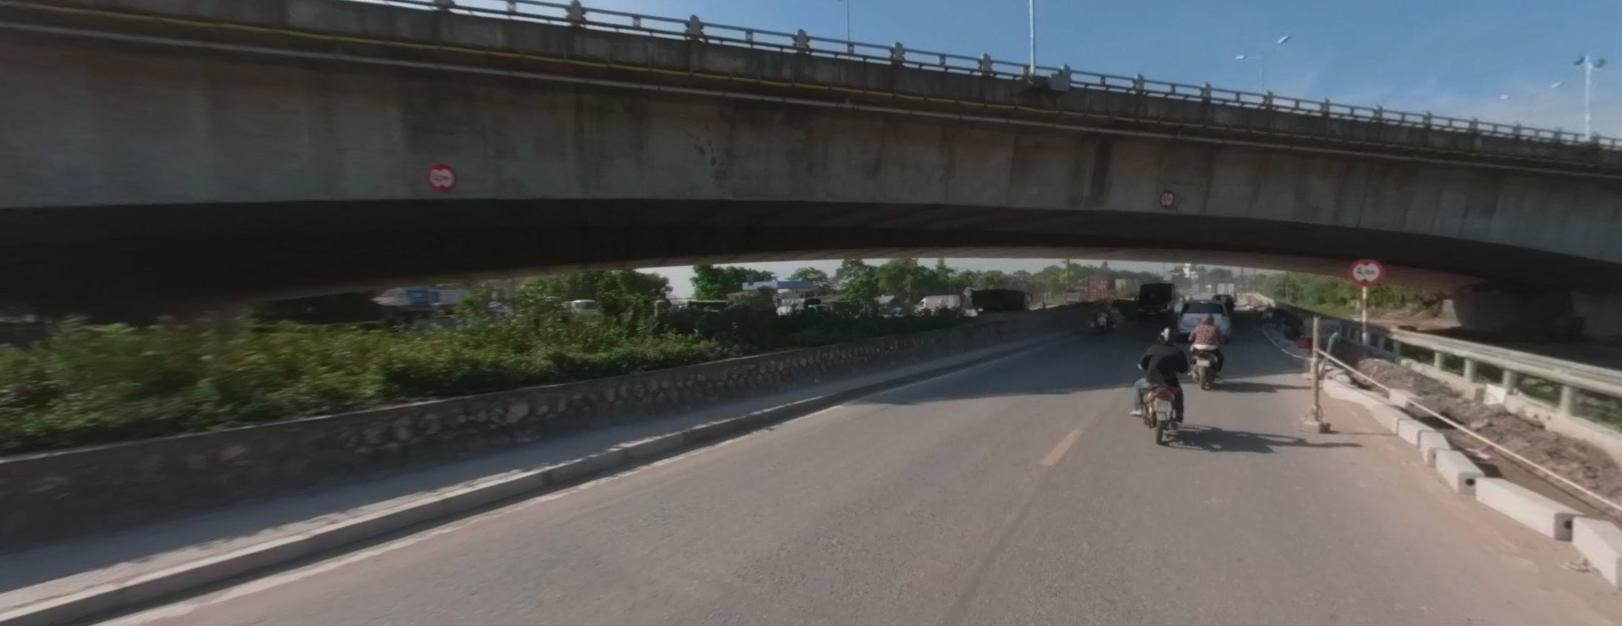Cam con lai: (1346, 252, 1385, 284), (422, 158, 455, 192)
